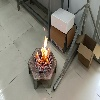fire: (35, 35, 50, 67)
